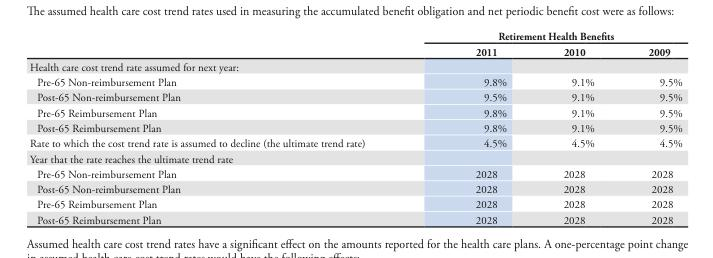table: (29, 29, 681, 226)
table column: (29, 29, 419, 226), (419, 29, 534, 226), (534, 29, 620, 226), (620, 29, 681, 226)
table column header: (29, 29, 681, 58)
table projected row header: (29, 58, 681, 74), (29, 150, 681, 166)
table row: (29, 58, 681, 74), (29, 89, 681, 105), (29, 150, 681, 166), (29, 196, 681, 212), (29, 43, 681, 58), (29, 74, 681, 89), (29, 105, 681, 120), (29, 120, 681, 135), (29, 135, 681, 150), (29, 166, 681, 181), (29, 181, 681, 196), (29, 29, 681, 43), (29, 212, 681, 226)
table spanning cell: (419, 29, 681, 43)
